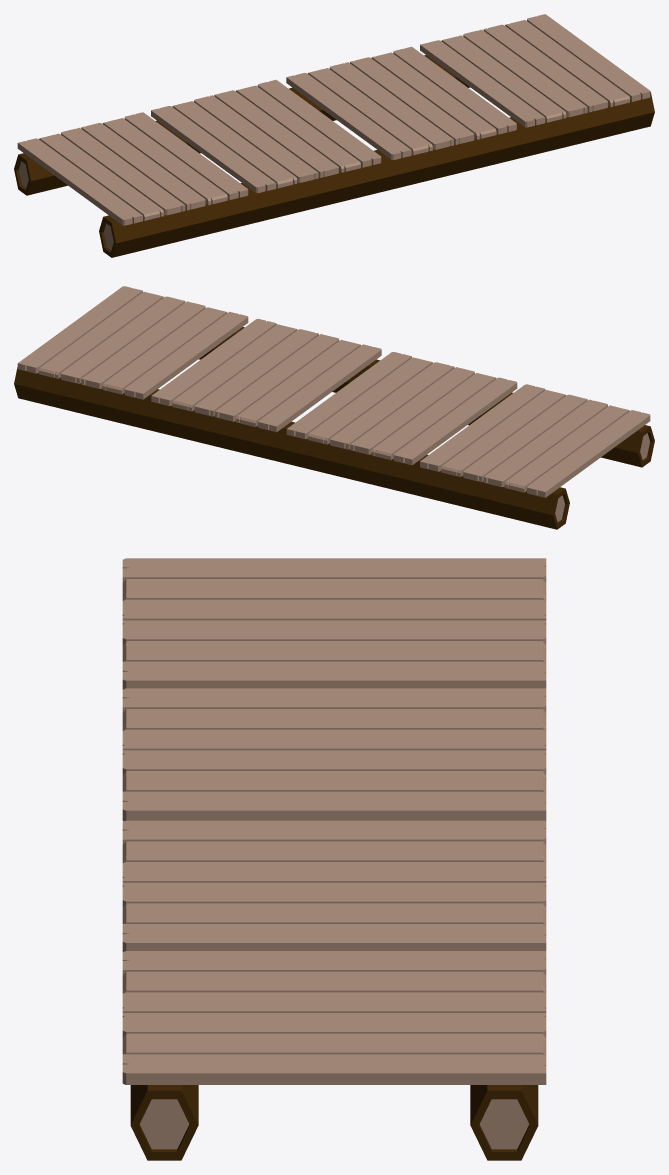
Rendered from Wood Floor.fbx.
3 renders of one model, top to bottom at view 1: azimuth 30°, elevation 25°; view 2: azimuth 150°, elevation 25°; view 3: azimuth 270°, elevation 25°, orthographic. The views are drawn at different scales.
Parts seen in each view (by area): view 1: Cylinder005; view 2: Cylinder005; view 3: Cylinder005.
Boxes of the visible parts, <box> form: Cylinder005: <box>14,14,654,257</box>; Cylinder005: <box>14,286,654,529</box>; Cylinder005: <box>122,558,546,1160</box>.
Bounding box in the file's own units: 1001 × 72.53 × 341.
